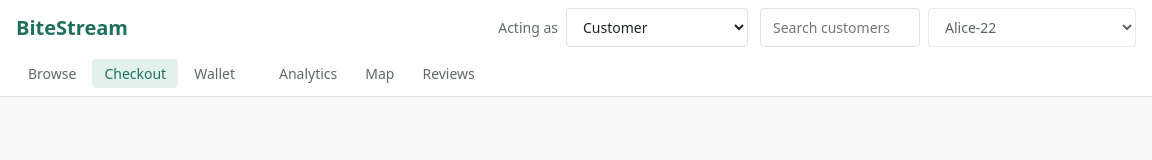
clearing a pending search prevents its late response from selecting an actor
Type "Bob" into the search field labelled "Search customers" at (840, 28), box [760,8,920,47]
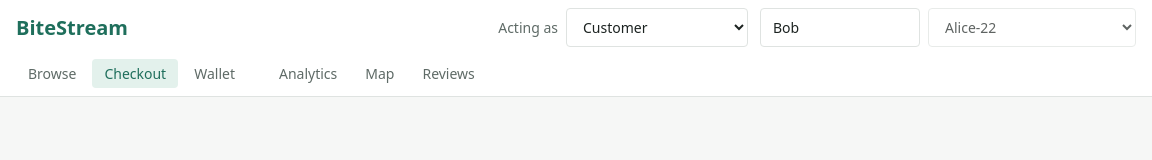
Clear the search field named "Search customers" at (840, 28), box [760,8,920,47]
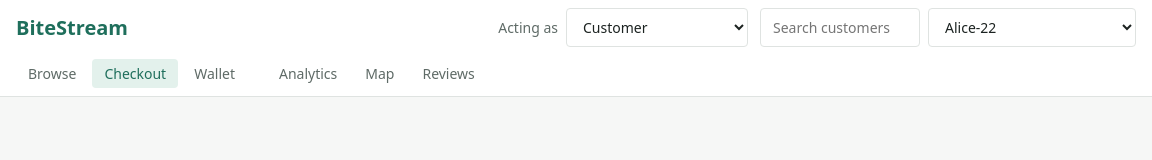
Result: the dropdown named "Choose a customer" is enabled at [928,8,1136,47]
